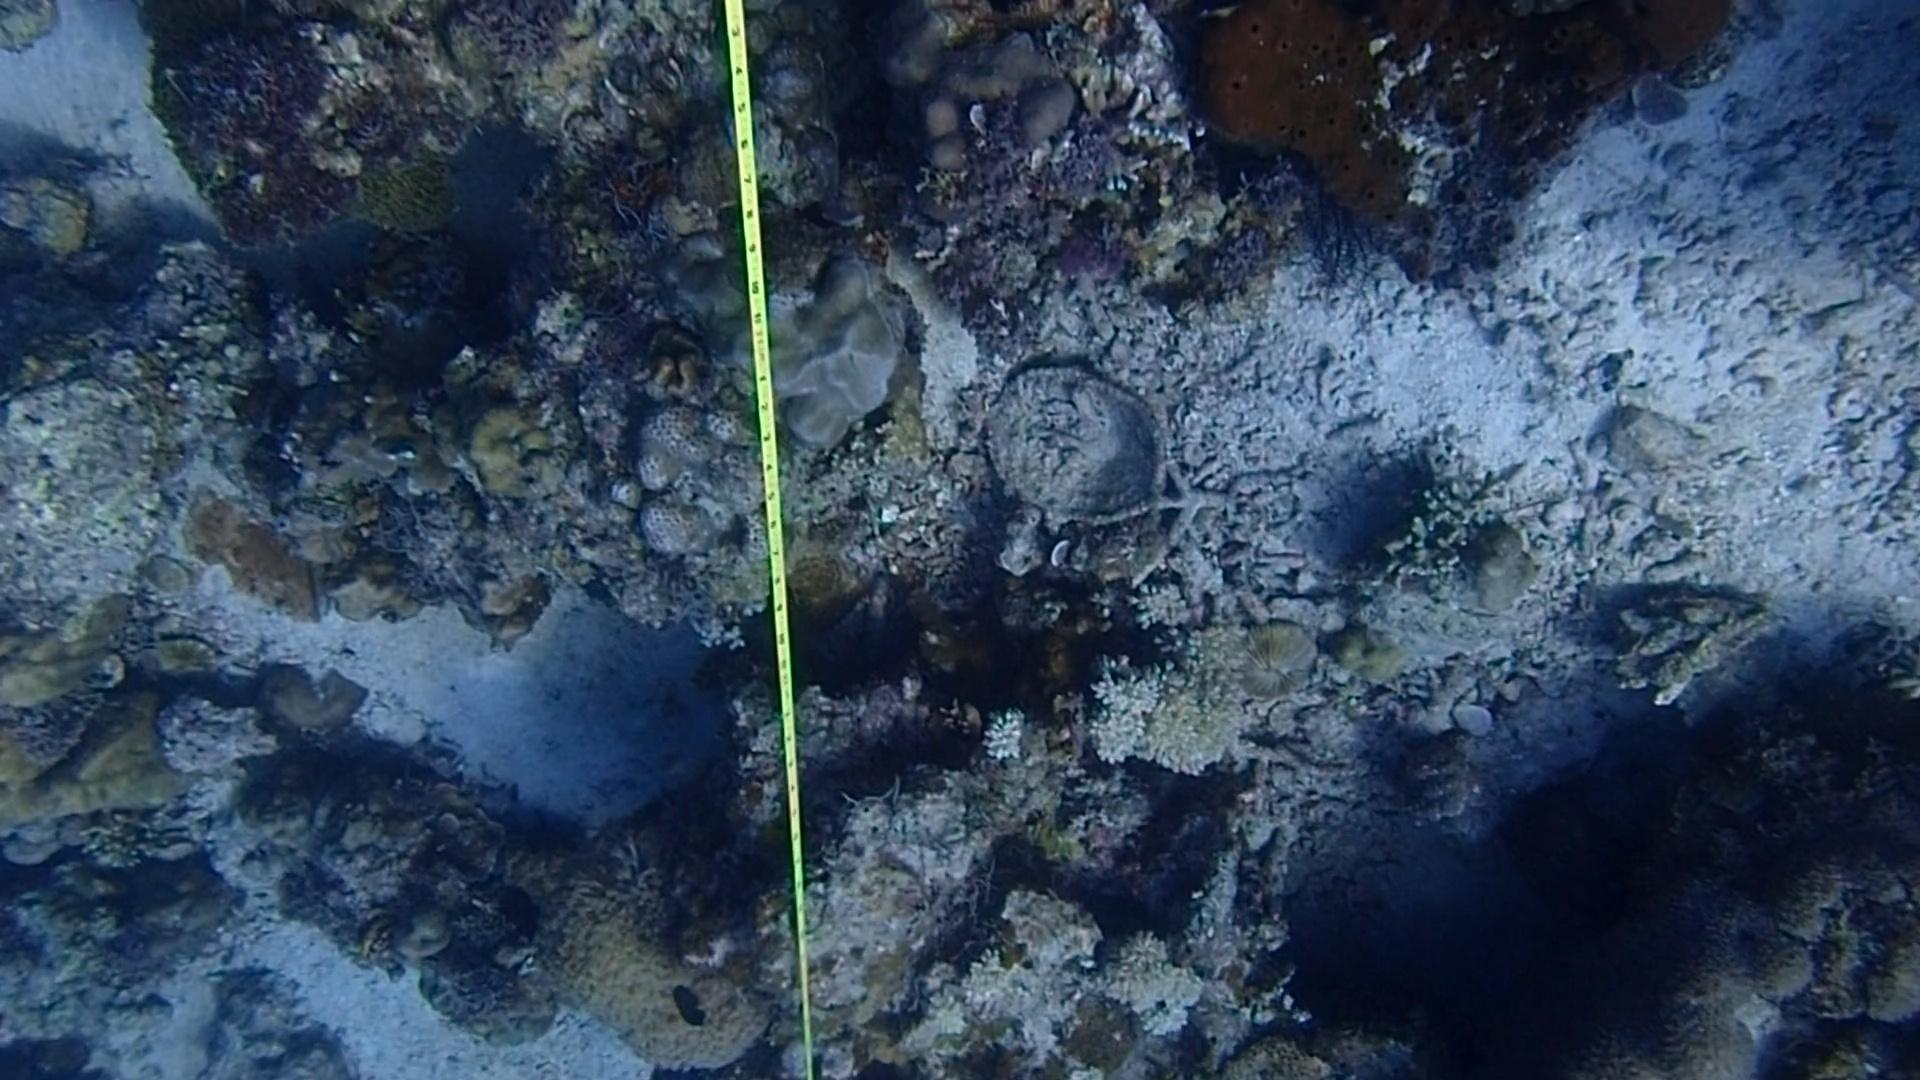Dark Fish: (286, 266, 371, 355), (489, 874, 567, 947), (655, 977, 715, 1035)
